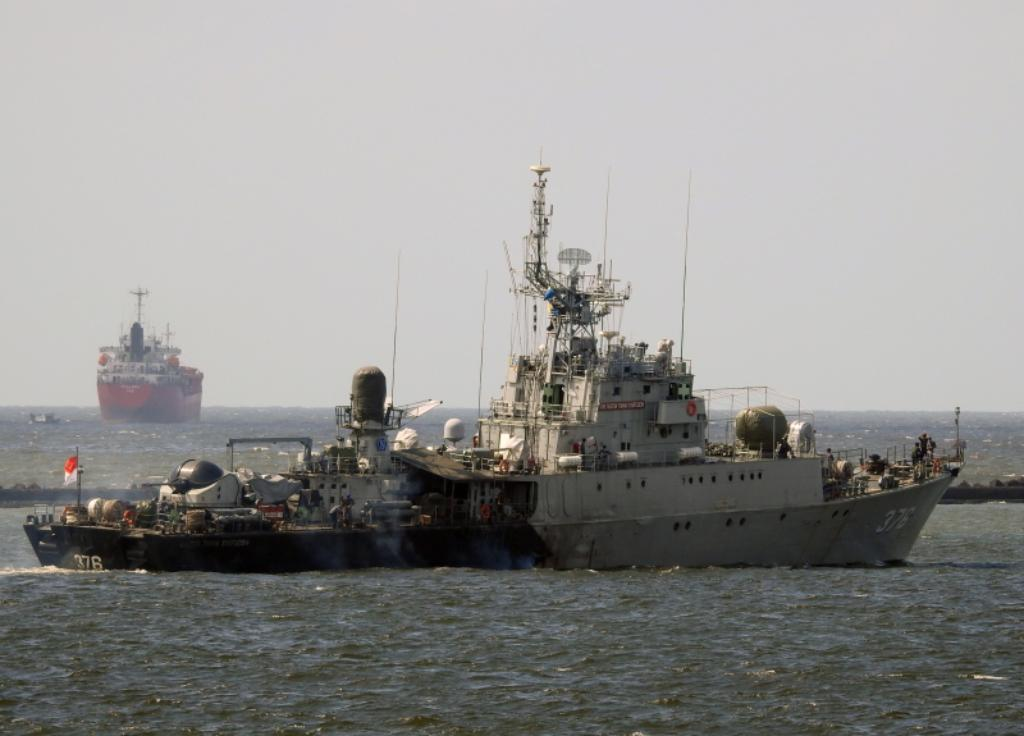Warship: (17, 160, 971, 570)
